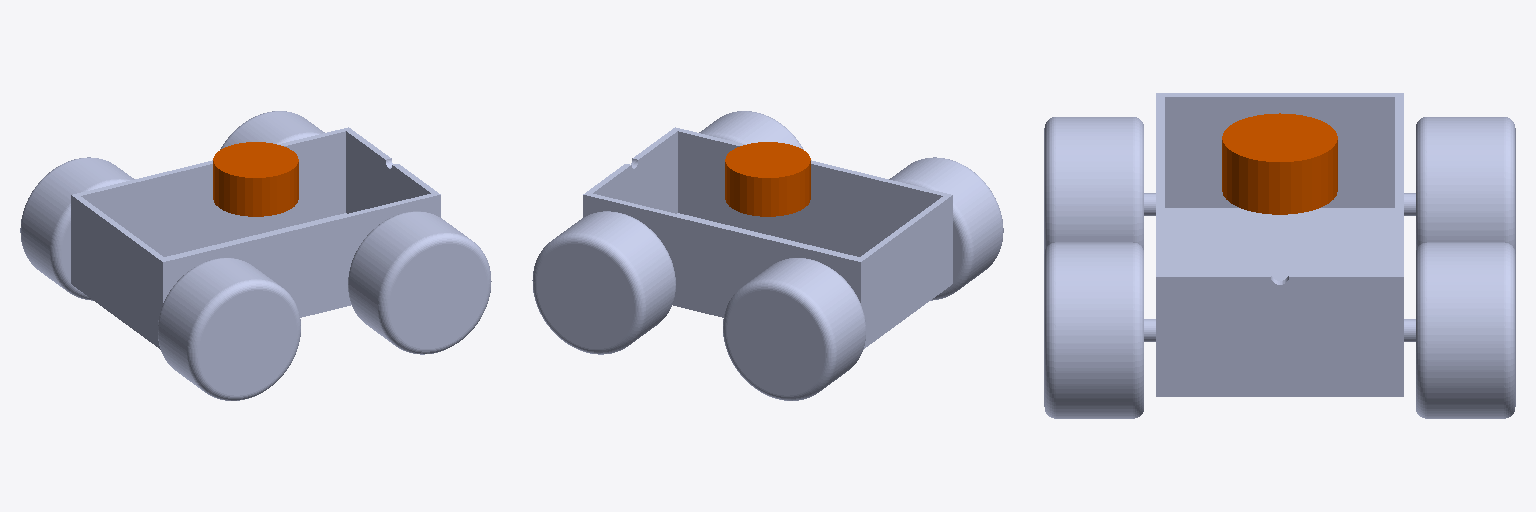
robot.urdf — ugv:
<?xml version="1.0" encoding="utf-8"?>
<!-- This URDF was automatically created by SolidWorks to URDF Exporter! Originally created by [author] ([email redacted]) 
     Commit Version: 1.6.0-4-g7f85cfe  Build Version: 1.6.7995.38578
     For more information, please see http://wiki.ros.org/sw_urdf_exporter -->
<robot
  name="ugv">

  <link
    name="base_link">
    <inertial>
      <origin
        xyz="-8.2112E-05 1.6653E-16 0.027016"    
        rpy="0 0 0" />
      <mass
        value="1.7667" />
      <inertia
        ixx="0.013351"
        ixy="7.6799E-18"
        ixz="1.0856E-05"
        iyy="0.030427"
        iyz="-4.6222E-18"
        izz="0.039051" />
    </inertial>
    <visual>
      <origin
        xyz="0 0 0"
        rpy="0 0 0" />
      <geometry>
        <mesh
          filename="package://ugv/meshes/base_link.STL" />
      </geometry>
      <material
        name="iron">
        <color
          rgba="0.79216 0.81961 0.93333 1" />
      </material>
    </visual>
    <collision>
      <origin
        xyz="0 0 0"
        rpy="0 0 0" />
      <geometry>
        <mesh
          filename="package://ugv/meshes/base_link.STL" />
      </geometry>
    </collision>
  </link>
  <link
    name="FR-link">
    <inertial>
      <origin
        xyz="0 0.043367 2.7756E-17"
        rpy="0 0 0" />
      <mass
        value="1.561" />
      <inertia
        ixx="0.0031906"
        ixy="2.0347E-19"
        ixz="-6.8359E-20"
        iyy="0.0044645"
        iyz="1.1704E-19"
        izz="0.0031906" />
    </inertial>
    <visual>
      <origin
        xyz="0 0 0"
        rpy="0 0 0" />
      <geometry>
        <mesh
          filename="package://ugv/meshes/FR-link.STL" />
      </geometry>
      <material
        name="">
        <color
          rgba="0.79216 0.81961 0.93333 1" />
      </material>
    </visual>
    <collision>
      <origin
        xyz="0 0 0"
        rpy="0 0 0" />
      <geometry>
        <mesh
          filename="package://ugv/meshes/FR-link.STL" />
      </geometry>
    </collision>
  </link>
  <joint
    name="FR-joint"
    type="continuous">
    <origin
      xyz="0.1285 -0.20347 0.0262"
      rpy="0 0 0" />
    <parent
      link="base_link" />
    <child
      link="FR-link" />
    <axis
      xyz="0 1 0" />
  </joint>
  <link
    name="BL-link">
    <inertial>
      <origin
        xyz="-3.4694E-18 -0.043367 2.7756E-17"
        rpy="0 0 0" />
      <mass
        value="1.561" />
      <inertia
        ixx="0.0031906"
        ixy="1.547E-19"
        ixz="-2.1838E-19"
        iyy="0.0044645"
        iyz="3.7794E-20"
        izz="0.0031906" />
    </inertial>
    <visual>
      <origin
        xyz="0 0 0"
        rpy="0 0 0" />
      <geometry>
        <mesh
          filename="package://ugv/meshes/BL-link.STL" />
      </geometry>
      <material
        name="">
        <color
          rgba="0.79216 0.81961 0.93333 1" />
      </material>
    </visual>
    <collision>
      <origin
        xyz="0 0 0"
        rpy="0 0 0" />
      <geometry>
        <mesh
          filename="package://ugv/meshes/BL-link.STL" />
      </geometry>
    </collision>
  </link>
  <joint
    name="BL-joint"
    type="continuous">
    <origin
      xyz="-0.1285 0.20347 0.0262"
      rpy="0 0 0" />
    <parent
      link="base_link" />
    <child
      link="BL-link" />
    <axis
      xyz="0 1 0" />
  </joint>
  <link
    name="BR-link">
    <inertial>
      <origin
        xyz="6.9389E-18 0.043367 2.7756E-17"
        rpy="0 0 0" />
      <mass
        value="1.561" />
      <inertia
        ixx="0.0031906"
        ixy="1.6445E-19"
        ixz="-1.0362E-38"
        iyy="0.0044645"
        iyz="6.7508E-36"
        izz="0.0031906" />
    </inertial>
    <visual>
      <origin
        xyz="0 0 0"
        rpy="0 0 0" />
      <geometry>
        <mesh
          filename="package://ugv/meshes/BR-link.STL" />
      </geometry>
      <material
        name="">
        <color
          rgba="0.79216 0.81961 0.93333 1" />
      </material>
    </visual>
    <collision>
      <origin
      xyz="0 0 0"
      rpy="1 0 0" />
      <geometry>
        <mesh
          filename="package://ugv/meshes/BR-link.STL" />
      </geometry>
    </collision>
  </link>
  <joint
    name="BR-joint"
    type="continuous">
    <origin
      xyz="-0.1285 -0.20347 0.0262"
      rpy="0 0 0" />
    <parent
      link="base_link" />
    <child
      link="BR-link" />
    <axis
      xyz="0 1 0" />
    <mimic joint="BL-joint" multiplier="1.0" offset="0.0"/>
  </joint>
  <link
    name="FL-link">
    <inertial>
      <origin
        xyz="-1.1102E-16 -0.043367 -2.7756E-17"
        rpy="0 0 0" />
      <mass
        value="1.561" />
      <inertia
        ixx="0.0031906"
        ixy="9.0379E-19"
        ixz="-1.6026E-20"
        iyy="0.0044645"
        iyz="8.5342E-19"
        izz="0.0031906" />
    </inertial>
    <visual>
      <origin
        xyz="0 0 0"
        rpy="0 0 0" />
      <geometry>
        <mesh
          filename="package://ugv/meshes/FL-link.STL" />
      </geometry>
      <material
        name="">
        <color
          rgba="0.79216 0.81961 0.93333 1" />
      </material>
    </visual>
    <collision>
      <origin
        xyz="0 0 0"
        rpy="0 0 0" />
      <geometry>
        <mesh
          filename="package://ugv/meshes/FL-link.STL" />
      </geometry>
         <surface>
      <friction>
        <ode>
          <mu>1</mu> <!-- Coefficient of friction -->
          <mu2>0.05</mu2> <!-- Secondary coefficient -->
        </ode>
      </friction>
    </surface>
    </collision>
  </link>
  <joint
    name="FL-joint"
    type="continuous">
    <origin
      xyz="0.1285 0.20347 0.0262"
      rpy="0 0 0" />
    <parent
      link="base_link" />
    <child
      link="FL-link" />
    <axis
      xyz="0 1 0" />
    <mimic joint="FR-joint" multiplier="1.0" offset="0.0"/>
  </joint>

    <link name="laser">
    <inertial>
      <origin xyz="0 0 0" rpy="0 0 0"/>
      <mass value="0.1"/>
      <inertia ixx="0.01" ixy="0.0" ixz="0.0" iyy="0.01" iyz="0.0" izz="0.01"/>
    </inertial>
    <visual>
      <origin xyz="0 0 0" rpy="0 0 0"/>
      <geometry>
        <cylinder radius="0.05" length="0.05"/>
      </geometry>
      <material name="gray"/>
    </visual>
    <collision>
      <origin xyz="0 0 0" rpy="0 0 0"/>
      <geometry>
        <cylinder radius="0.05" length="0.05"/>
      </geometry>
    </collision>
 </link>

  <joint name="lidar_joint" type="fixed">
    <parent link="base_link"/>
    <child link="laser"/>
    <origin xyz="0 0 0.125" rpy="0 0 0"/>
  </joint>

    <gazebo reference = "laser">
      <sensor type="ray" name="lidar_sensor">
        <pose>0 0 0 0 0 0</pose>
        <visualize>true</visualize>
        <update_rate>50</update_rate>
        <ray>
          <scan>
            <horizontal>
              <samples>360</samples>
              <resolution>1</resolution>
              <min_angle>-3.14</min_angle>
              <max_angle>3.14</max_angle>
            </horizontal>
          </scan>
          <range>
            <min>0.3</min>
            <max>8.0</max>
            <resolution>0.01</resolution>
          </range>
          <noise>
            <type>gaussian</type>
            <mean>0.0</mean>
            <stddev>0.01</stddev>
          </noise>
        </ray>
        <plugin name="laser_controller" filename="libgazebo_ros_laser.so">
          <topicName>/scan</topicName>
          <frameName>laser</frameName>
        </plugin>
      </sensor>
    </gazebo>

<gazebo>
    <plugin name="gazebo_ros_diff_drive" filename="libgazebo_ros_diff_drive.so">
    <parameter name="use_sim_time" value="true"/>
    <broadcastTF>true</broadcastTF>
    <updateRate>50.0</updateRate>
    <commandTopic>cmd_vel</commandTopic>
    <odometryTopic>odom</odometryTopic>
    <odometryFrame>odom</odometryFrame>
    <robotBaseFrame>base_link</robotBaseFrame>
    <publishWheelTF>true</publishWheelTF>
    <publishOdomTF>true</publishOdomTF>
    <publishWheelJointState>true</publishWheelJointState>
    <rosDebugLevel>info</rosDebugLevel>
    <odometrySource>1</odometrySource>
    <publishTf>1</publishTf>
  
    <leftJoint>BL-joint</leftJoint>
    <rightJoint>FR-joint</rightJoint>  
    <wheelSeparation>0.30</wheelSeparation>  <!--0.496-->
    <wheelDiameter>0.14</wheelDiameter>  <!--0.15-->
    
    <wheelAcceleration>10.0</wheelAcceleration>
    <wheelTorque>5.0</wheelTorque>
    <torque>5.0</torque>
    <covariance_x>0.0001</covariance_x>
    <covariance_y>0.0001</covariance_y>
    <covariance_yaw>0.01</covariance_yaw>
  </plugin>
</gazebo>



</robot>

--- What the picture shows (computed from the rendered views, not written in the file) ---
The picture shows the robot from 3 angles, left to right: view 1: azimuth 30°, elevation 25°; view 2: azimuth 150°, elevation 25°; view 3: azimuth 270°, elevation 25°; orthographic projection.
Model ugv with 6 links and 5 joints (4 continuous, 1 fixed), rooted at base_link, posed all joints at 0.
Links seen in each view (by area): view 1: base_link, BR-link, FR-link, BL-link, laser, FL-link; view 2: base_link, FL-link, BL-link, BR-link, laser, FR-link; view 3: base_link, FR-link, FL-link, BL-link, BR-link, laser.
Boxes of the visible links, x1,y1,x2,y2 form: base_link: (71,127,440,349); BR-link: (158,258,300,400); FR-link: (348,211,491,354); BL-link: (20,157,134,300); laser: (213,142,298,216); FL-link: (220,111,324,209); base_link: (583,127,952,349); FL-link: (532,211,675,354); BL-link: (723,258,865,400); BR-link: (889,157,1003,300); laser: (725,142,810,216); FR-link: (699,111,803,209); base_link: (1156,93,1403,396); FR-link: (1044,242,1155,418); FL-link: (1404,242,1515,418); BL-link: (1404,117,1515,253); BR-link: (1044,117,1155,253); laser: (1222,113,1337,214).
Bounding box of the posed robot: 0.4094 × 0.4069 × 0.2 m (x, y, z).
5 mesh visuals loaded from 5 distinct referenced files (5 binary STL).
